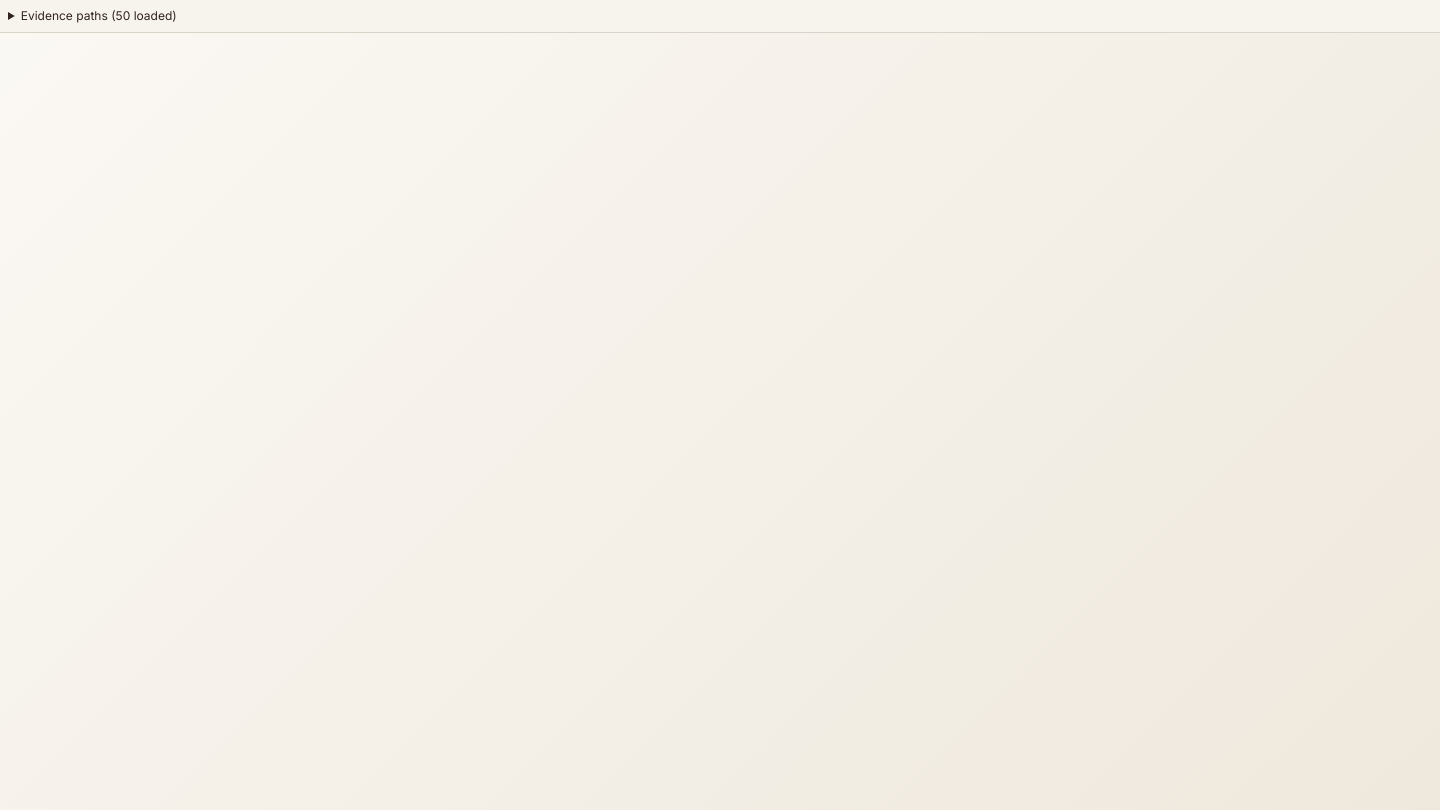
Scenario: Evidence disclosure readiness › retains all path summaries but mounts only the opened path properties and raw evidence
Later steps or results of the test are not shown.
Expected: the text "Procedure 0" is not shown
Click the heading "Evidence paths (50 loaded)" at (99, 16), box [21,8,177,23]
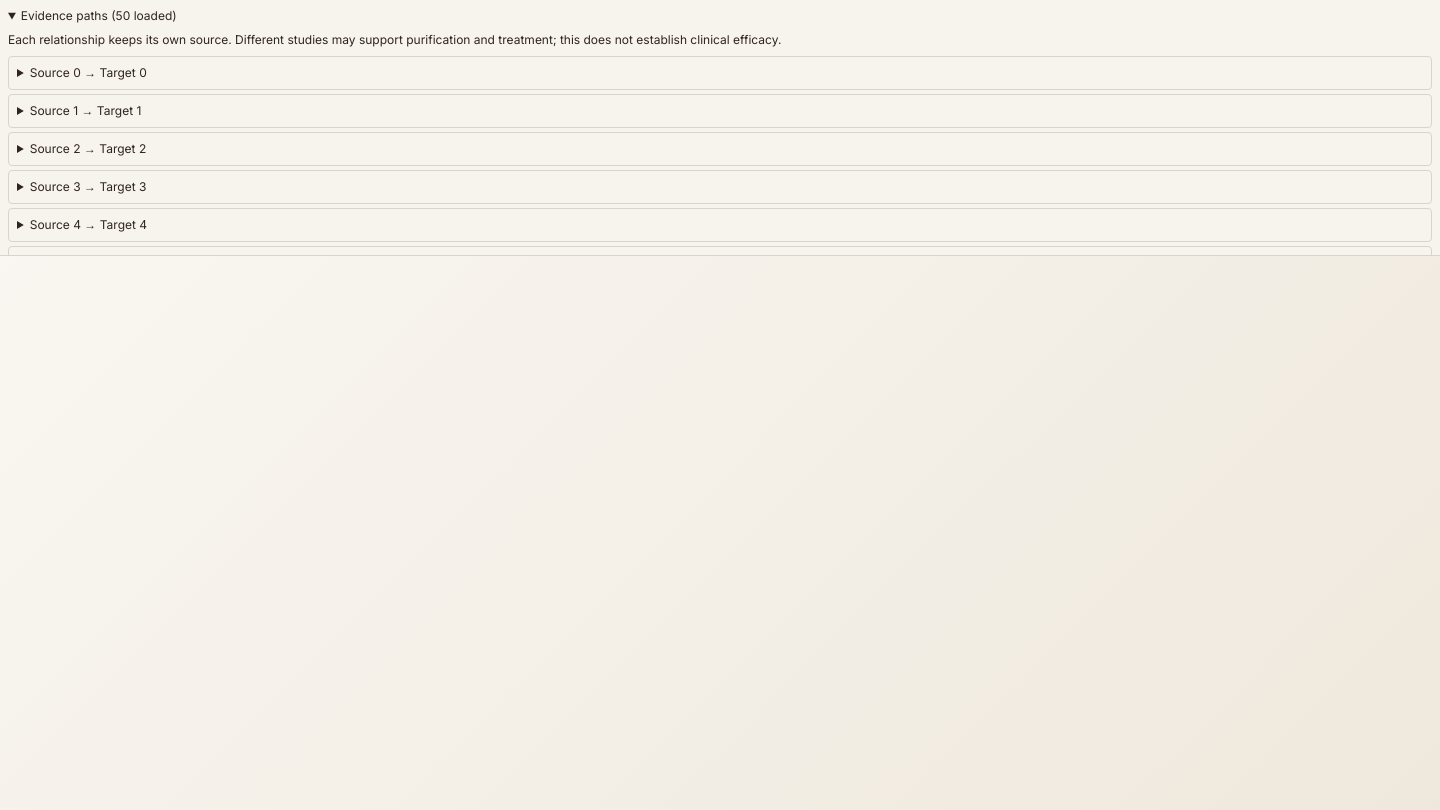
Click the heading "Source 0 → Target 0" at (88, 72), box [30,65,147,80]
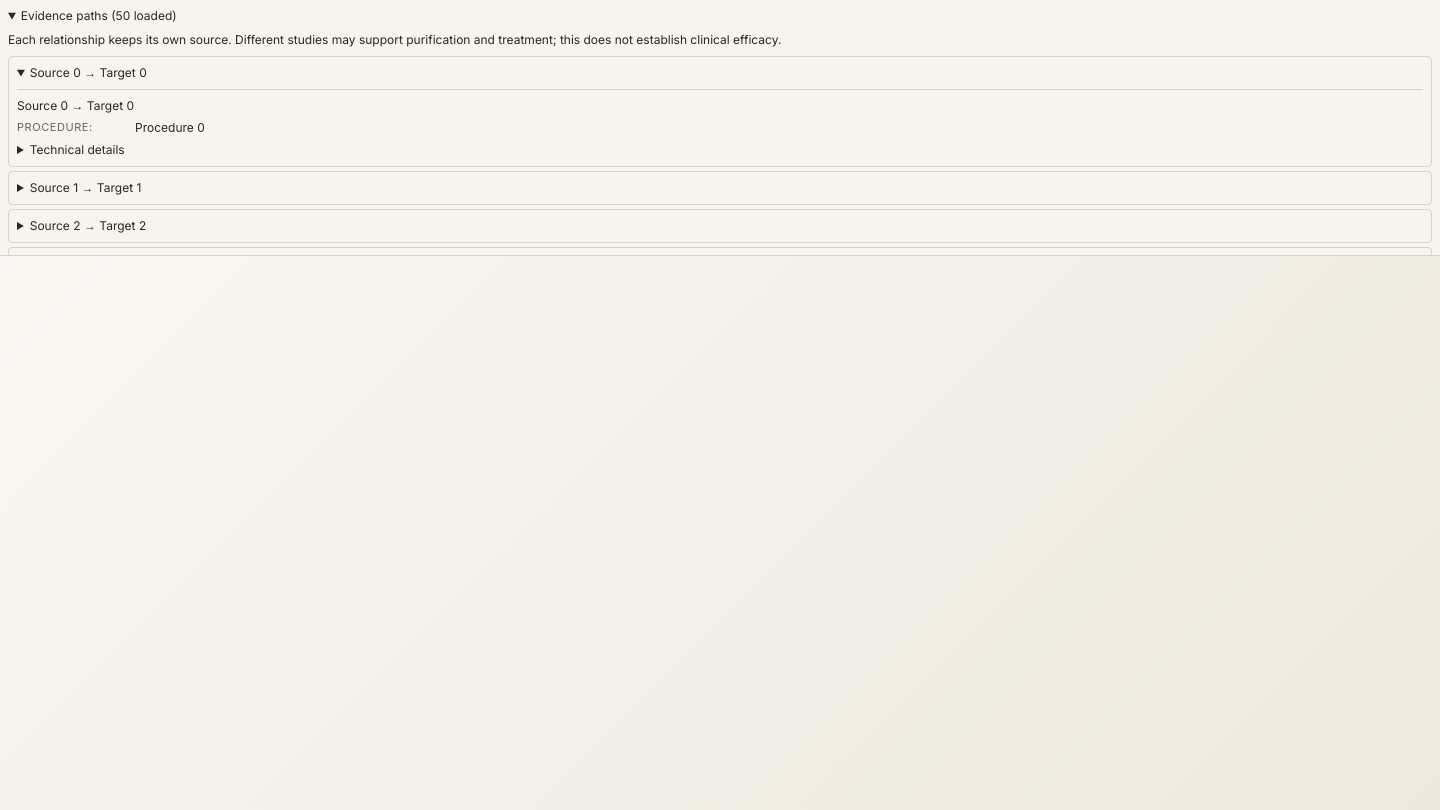
Now the text "Procedure 0" is shown, box [135,120,205,135]
Click the heading "Technical details" at (77, 150), box [30,142,125,157]
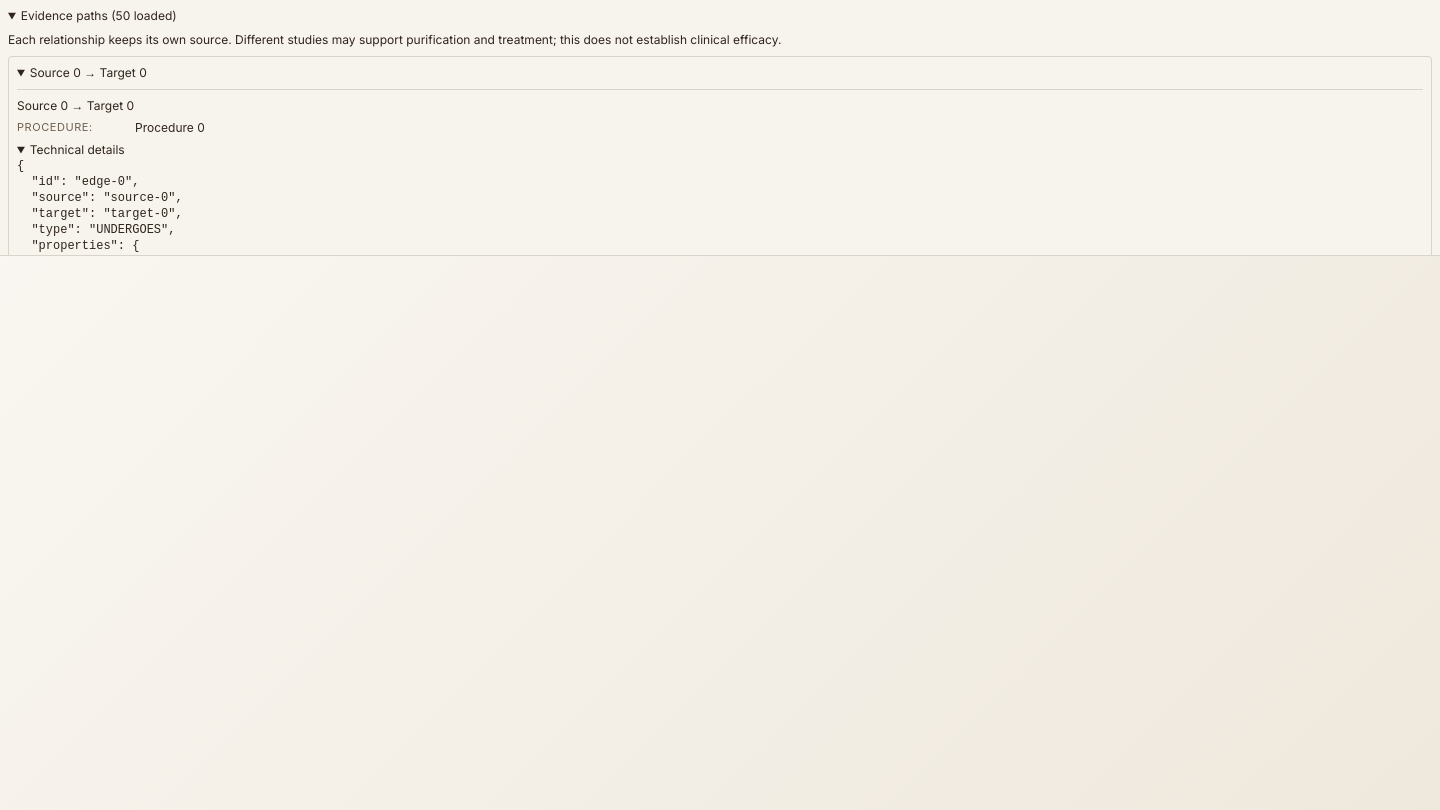
Now the text "Procedure 0" is shown, box [135,120,205,135]
Click the heading "Source 0 → Target 0" at (88, 72), box [30,65,147,80]
(page scrolled)
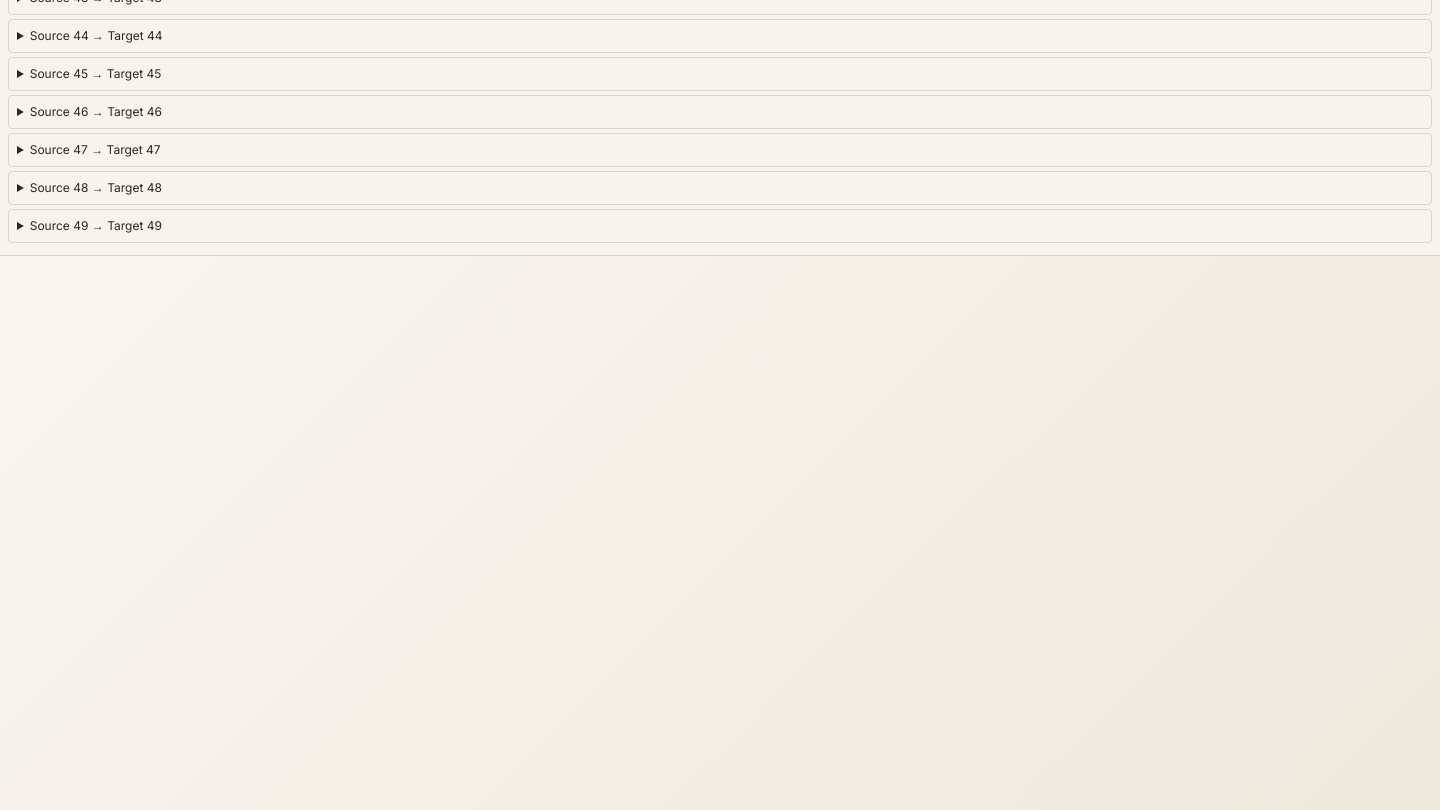
Now the text "Procedure 0" is gone
